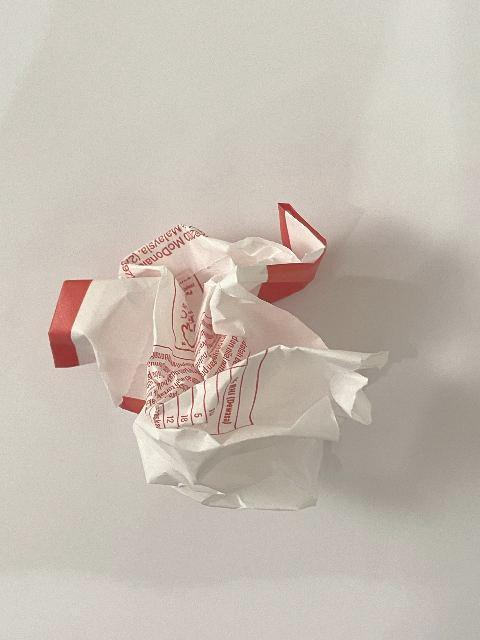paperbag: (46, 200, 390, 512)
